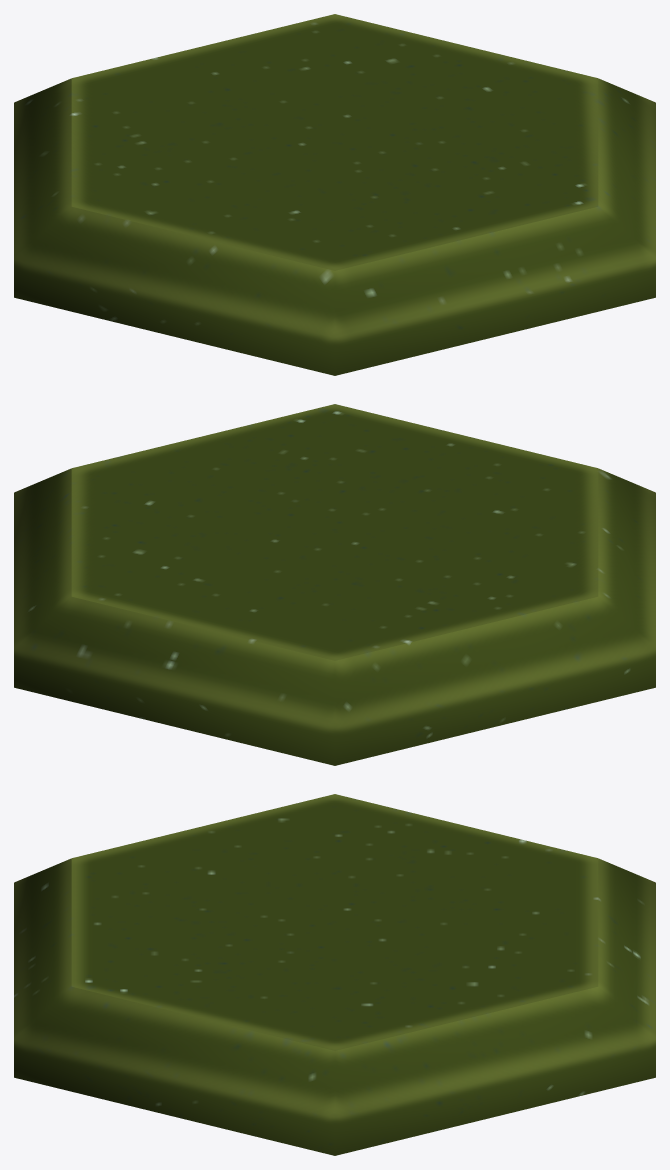
File: BG2Boss-1.fbx
3 views of the same model, one above another, from view 1: azimuth 30°, elevation 25°; view 2: azimuth 150°, elevation 25°; view 3: azimuth 270°, elevation 25° (orthographic).
Visible parts, largest first — view 1: Cylinder016; view 2: Cylinder016; view 3: Cylinder016.
Part boxes in pixels (bbox=[...]): Cylinder016: bbox=[14, 14, 655, 375]; Cylinder016: bbox=[14, 404, 655, 765]; Cylinder016: bbox=[14, 794, 655, 1155].
Bounding box in the file's own units: 130 × 14.92 × 113.
Materials: 1 (1 with a texture image).
